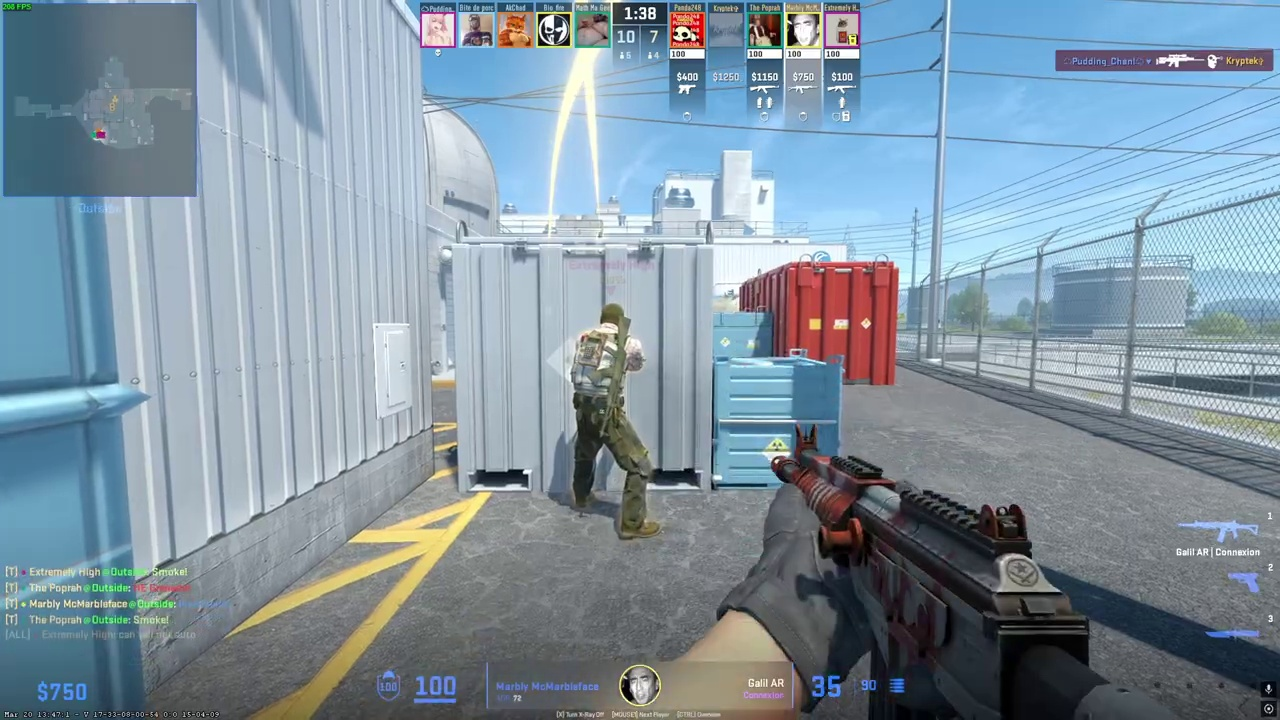Terrorist: (571, 303, 654, 540)
